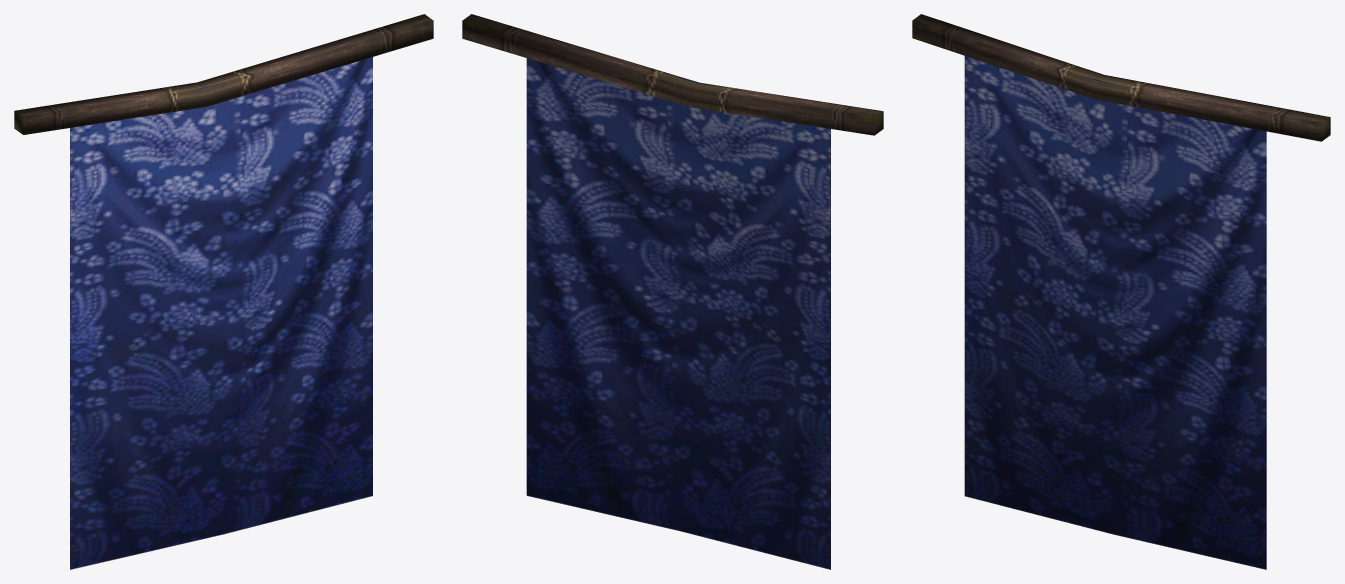
The model's file is SWDS_object_02.FBX.
3 views of the same model, side by side, from view 1: azimuth 30°, elevation 25°; view 2: azimuth 150°, elevation 25°; view 3: azimuth 330°, elevation 25° (orthographic).
Visible parts, largest first — view 1: SWDS_object_02; view 2: SWDS_object_02; view 3: SWDS_object_02.
Part boxes in pixels (left/top/right/bottom): SWDS_object_02: left=14, top=14, right=433, bottom=569; SWDS_object_02: left=462, top=14, right=883, bottom=569; SWDS_object_02: left=912, top=14, right=1330, bottom=569.
Size of the model in its own units: 314 by 341 by 25.35.
